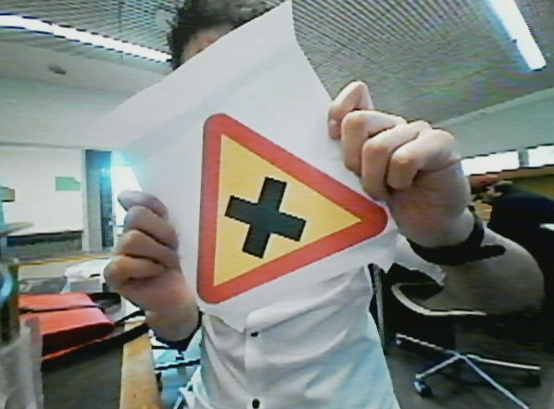junction: (180, 111, 410, 296)
